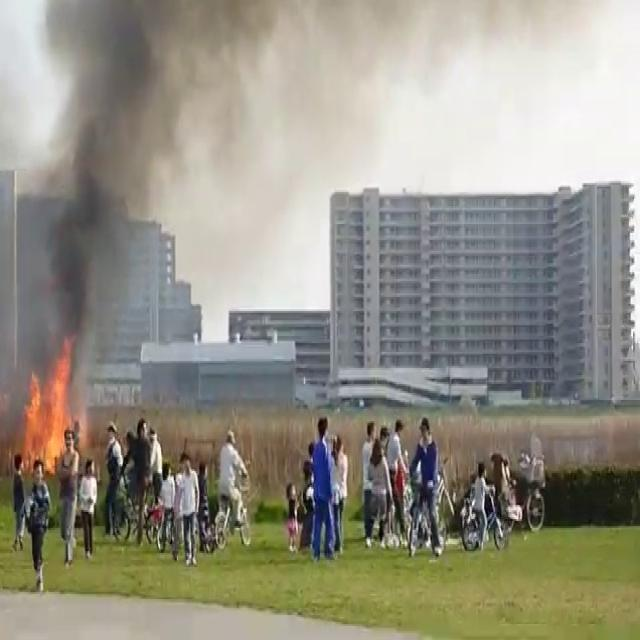Fire: (18, 348, 84, 474)
Smoke: (0, 0, 266, 409)
